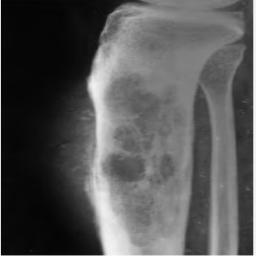cancer: (90, 77, 193, 253)
